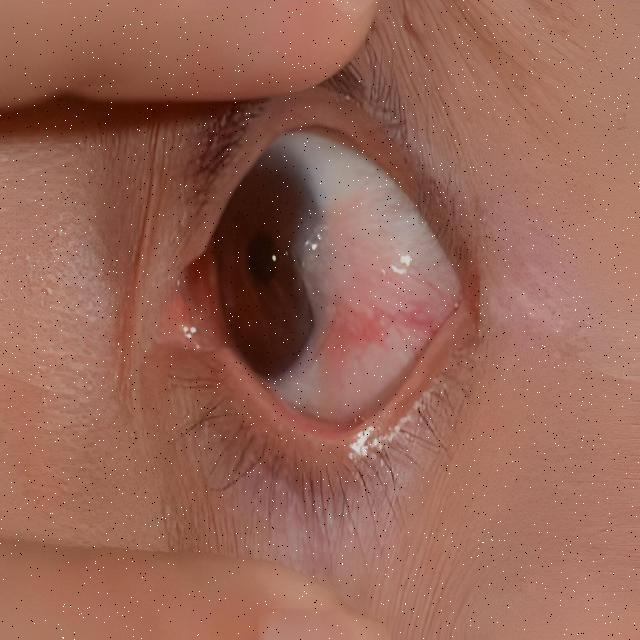Pterygium: (283, 178, 459, 422)
